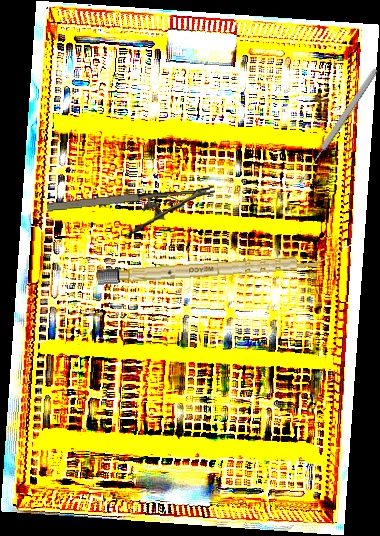Needle Holder: (46, 186, 218, 240)
Scalpel Handle: (96, 254, 326, 285)
Surgical Spoon: (296, 67, 380, 185)
